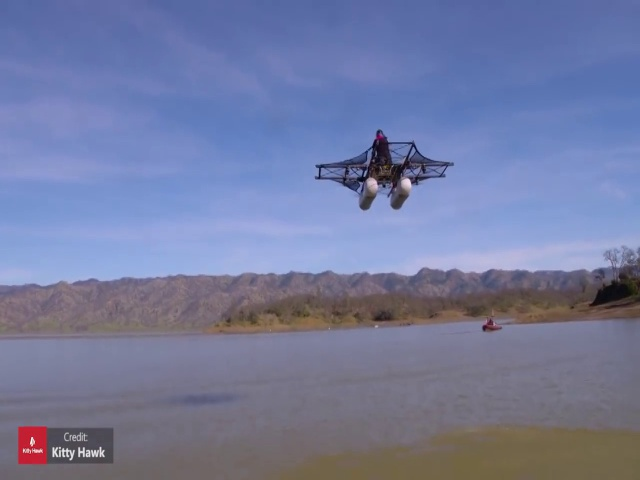drone: (312, 140, 458, 214)
